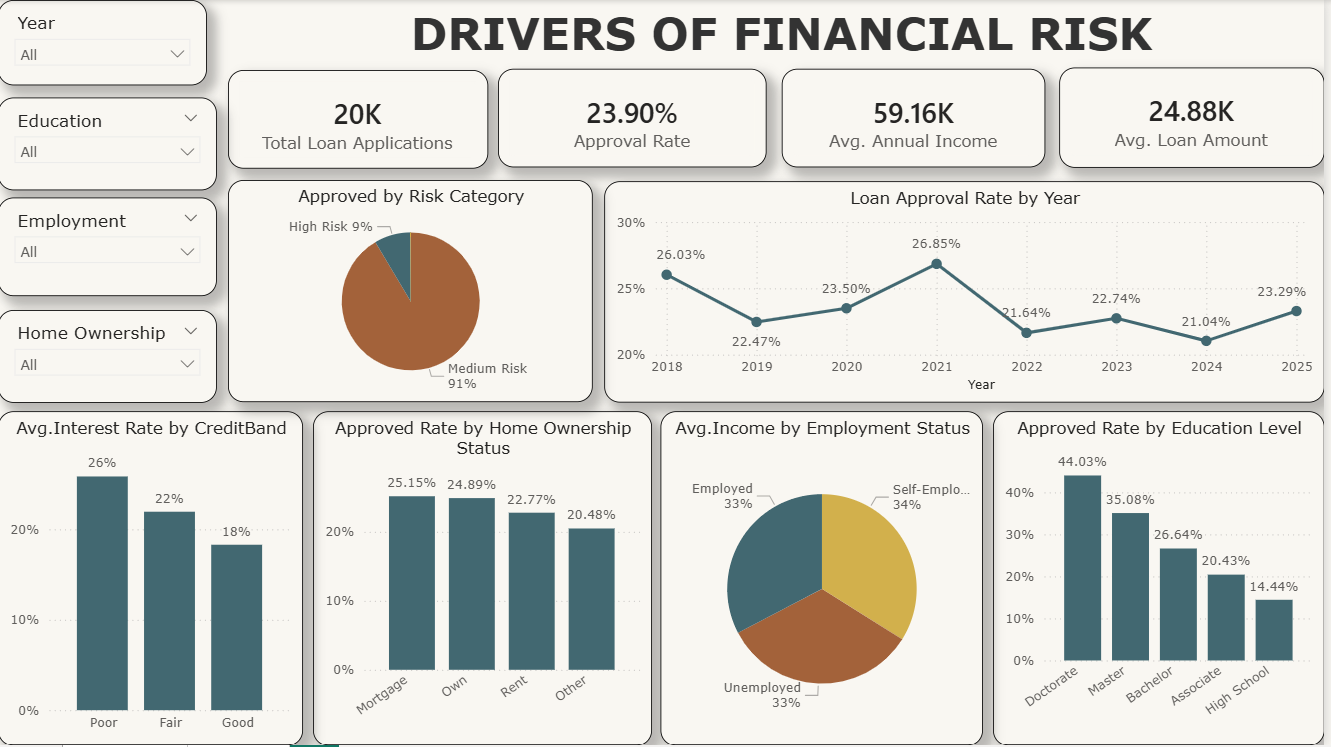

Layout of this report page (visuals, bound fields, positions):
{"tool":"powerbi","page":{"name":"Dashboard","canvas":[1280,720],"ordinal":0},"visuals":[{"type":"textbox","box":[232.8,0,1047.2,66.4],"z":0},{"type":"cardVisual","fields":{"Data":["CountNonNull(Loan_Financial_Risk.LoanApproved)"]},"box":[222,67.6,250.9,95.3],"z":1000},{"type":"cardVisual","fields":{"Data":["Avg(Loan_Financial_Risk.LoanApproved)"]},"box":[482.6,66.4,259.4,95.3],"z":2000},{"type":"cardVisual","fields":{"Data":["Avg(Loan_Financial_Risk.AnnualIncome)"]},"box":[756.4,66.4,254.6,95.3],"z":3000},{"type":"cardVisual","fields":{"Data":["Avg(Loan_Financial_Risk.LoanAmount)"]},"box":[1024.3,65.1,255.8,96.5],"z":4000},{"type":"slicer","fields":{"Values":["Loan_Financial_Risk.ApplicationDate.Variation.Date Hierarchy.Year"]},"box":[0,0,201.5,82],"z":5000},{"type":"slicer","fields":{"Values":["Loan_Financial_Risk.EducationLevel"]},"box":[0,94.1,211.1,89.3],"z":6000},{"type":"slicer","fields":{"Values":["Loan_Financial_Risk.EmploymentStatus"]},"box":[0,190.6,211.1,95.3],"z":7000},{"type":"slicer","fields":{"Values":["Loan_Financial_Risk.HomeOwnershipStatus"]},"box":[0,299.2,211.1,89.3],"z":8000},{"type":"lineChart","title":"Loan Approval Rate by Year","fields":{"Category":["Loan_Financial_Risk.ApplicationDate.Variation.Date Hierarchy.Year","Loan_Financial_Risk.ApplicationDate.Variation.Date Hierarchy.Month"],"Y":["Avg(Loan_Financial_Risk.LoanApproved)"]},"box":[585.1,174.9,694.9,213.5],"z":9000},{"type":"clusteredColumnChart","title":"Approved Rate by Education Level","fields":{"Category":["Loan_Financial_Risk.EducationLevel"],"Y":["Avg(Loan_Financial_Risk.LoanApproved)"]},"box":[960.3,396.9,319.7,323.3],"z":10000},{"type":"clusteredColumnChart","title":"Approved Rate by Home Ownership Status","fields":{"Category":["Loan_Financial_Risk.HomeOwnershipStatus"],"Y":["Avg(Loan_Financial_Risk.LoanApproved)"]},"box":[304,396.9,326.9,323.3],"z":11000},{"type":"pieChart","title":"Avg.Income by Employment Status","fields":{"Category":["Loan_Financial_Risk.EmploymentStatus"],"Y":["Avg(Loan_Financial_Risk.AnnualIncome)"]},"box":[639.4,396.9,311.3,323.3],"z":12000},{"type":"columnChart","title":"Avg.Interest Rate by CreditBand","fields":{"Category":["Loan_Financial_Risk.CreditBand"],"Y":["Avg(Loan_Financial_Risk.InterestRate)"]},"box":[0,396.9,294.4,323.3],"z":13000},{"type":"pieChart","title":"Approved by Risk Category","fields":{"Category":["Loan_Financial_Risk.RiskCategory"],"Y":["CountNonNull(Loan_Financial_Risk.LoanApproved)"]},"box":[222,173.7,352.3,214.7],"z":14000}]}

Visuals, with their boxes in screenshot pixels (x1, y1, x2, y2), scaled from the page's 1280x720 canvas onto the 1331x747 screenshot:
textbox: box(242, 0, 1330, 69)
cardVisual - CountNonNull(Loan_Financial_Risk.LoanApproved): box(231, 70, 492, 169)
cardVisual - Avg(Loan_Financial_Risk.LoanApproved): box(502, 69, 772, 168)
cardVisual - Avg(Loan_Financial_Risk.AnnualIncome): box(787, 69, 1051, 168)
cardVisual - Avg(Loan_Financial_Risk.LoanAmount): box(1065, 68, 1330, 168)
slicer - Loan_Financial_Risk.ApplicationDate.Variation.Date Hierarchy.Year: box(0, 0, 210, 85)
slicer - Loan_Financial_Risk.EducationLevel: box(0, 98, 220, 190)
slicer - Loan_Financial_Risk.EmploymentStatus: box(0, 198, 220, 297)
slicer - Loan_Financial_Risk.HomeOwnershipStatus: box(0, 310, 220, 403)
"Loan Approval Rate by Year" lineChart: box(608, 181, 1330, 403)
"Approved Rate by Education Level" clusteredColumnChart: box(999, 412, 1330, 746)
"Approved Rate by Home Ownership Status" clusteredColumnChart: box(316, 412, 656, 746)
"Avg.Income by Employment Status" pieChart: box(665, 412, 989, 746)
"Avg.Interest Rate by CreditBand" columnChart: box(0, 412, 306, 746)
"Approved by Risk Category" pieChart: box(231, 180, 597, 403)
